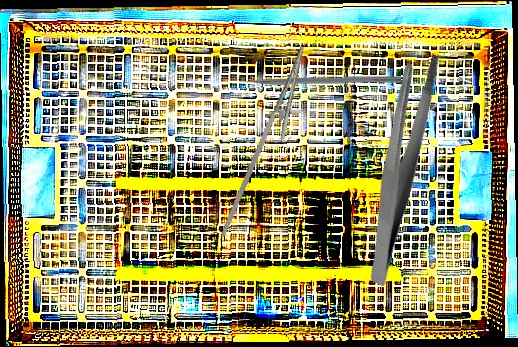Chopper: (229, 66, 402, 86)
Dressing Forceps: (312, 45, 488, 287)
Needle Holder: (220, 39, 320, 248)
